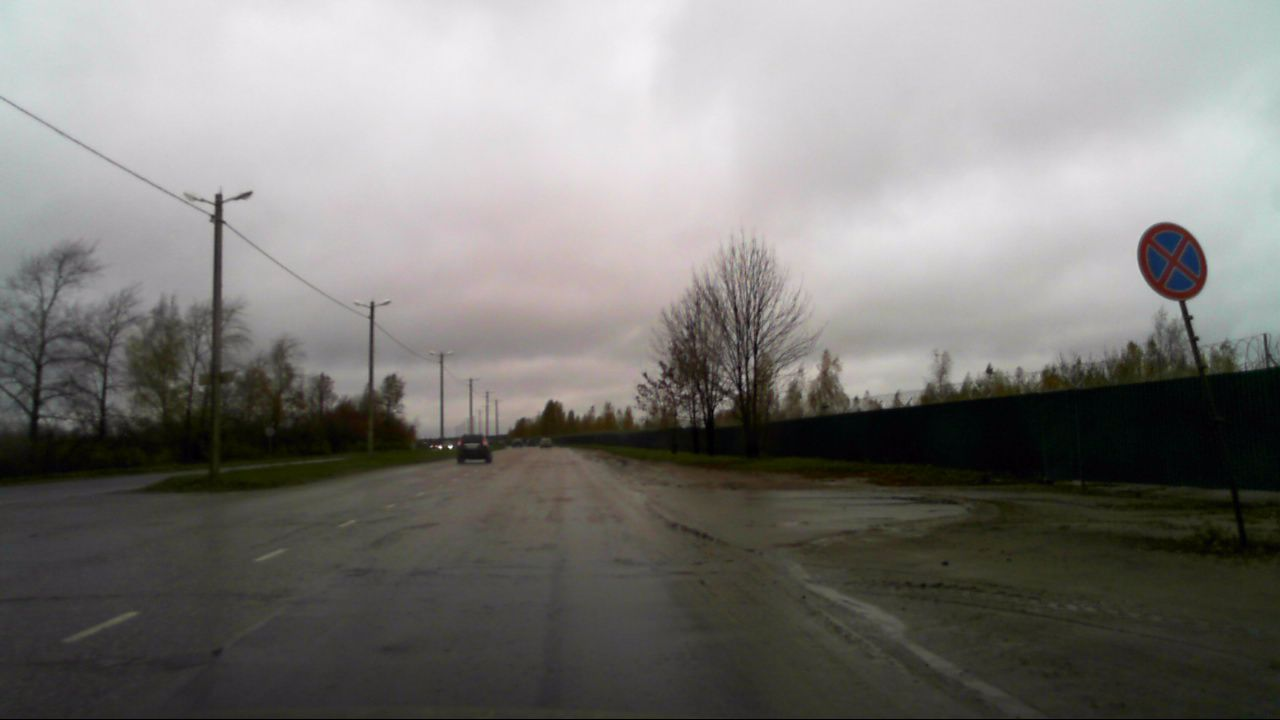No Parking: (1136, 221, 1209, 301)
